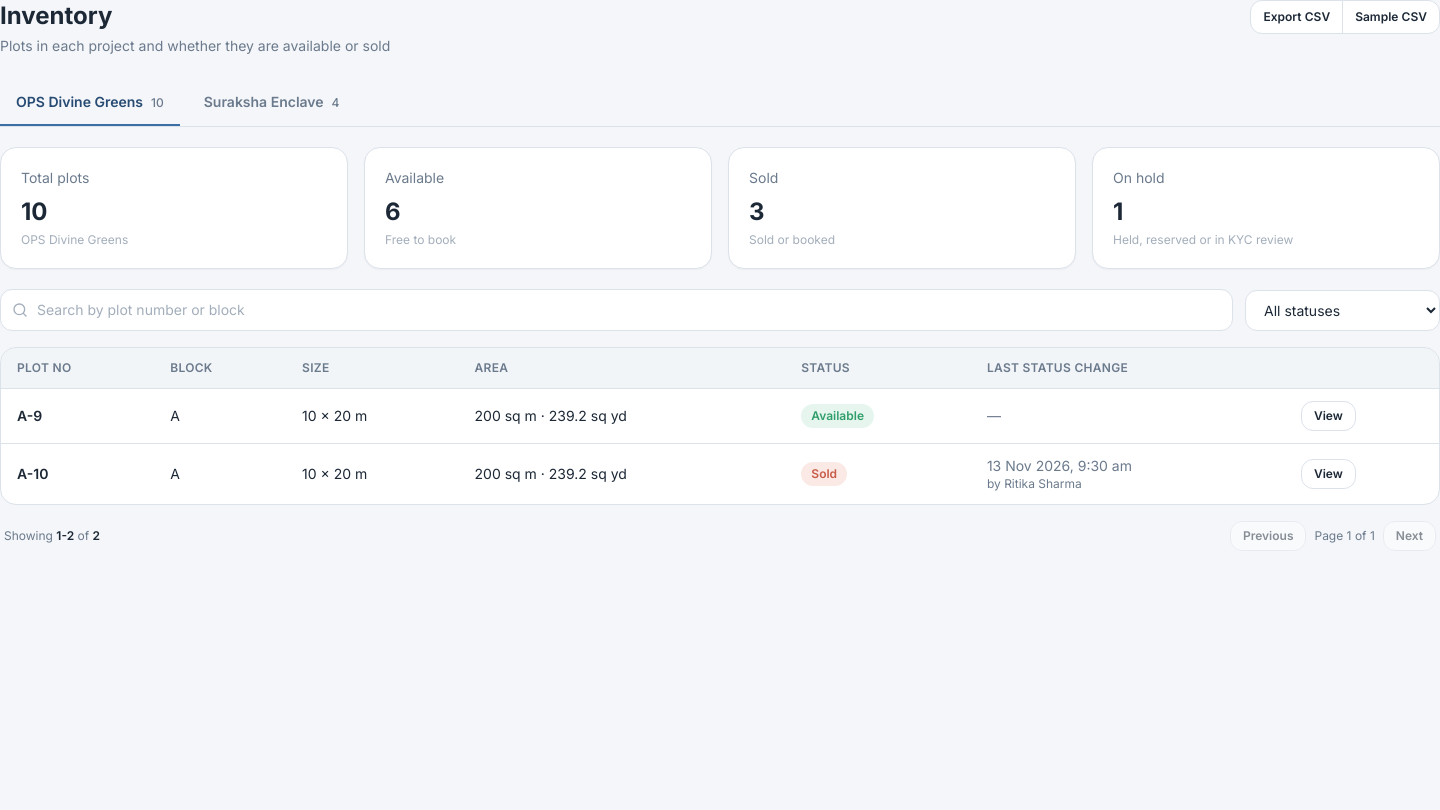
Test case: InventoryPage › shows the conflict and reloads the plot when someone else changed it
This screenshot has width=1440, height=810.
Click the button "View" in the row of "A-9".
click(1328, 416)  # box 1301,401 -> 1356,431
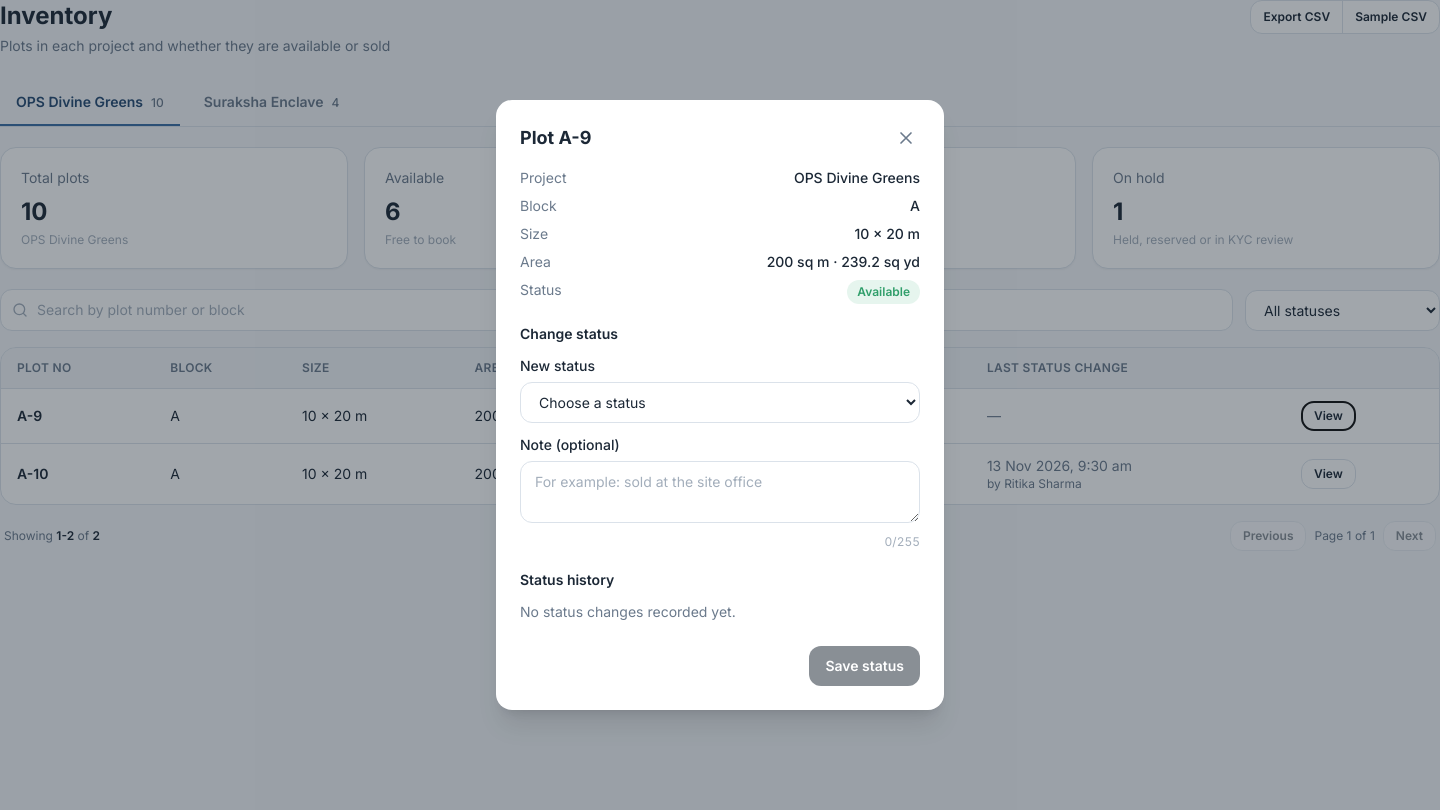
Select "Sold" in the dropdown labelled "New status" at (720, 402), box 520,382 -> 920,423
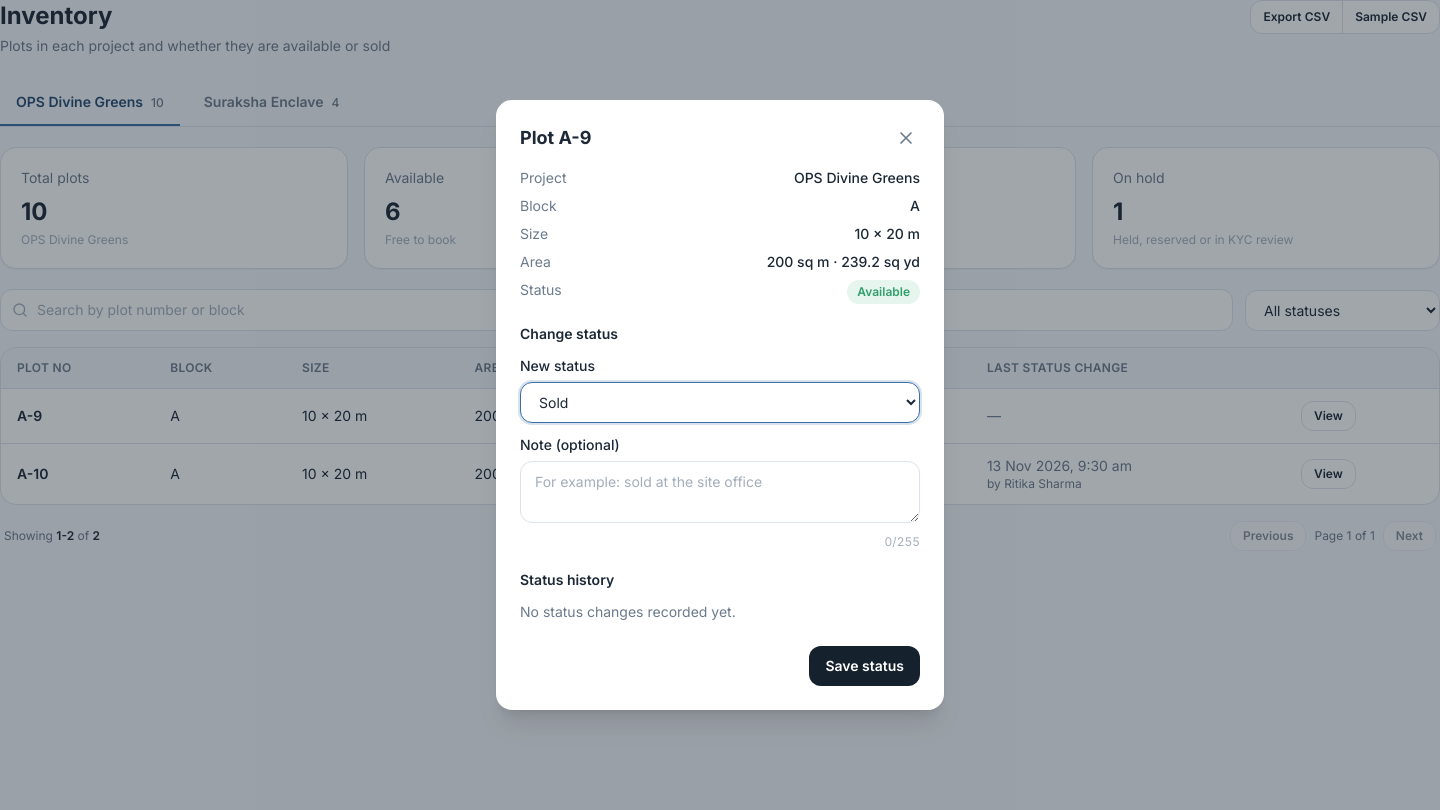
Click the button "Save status".
click(865, 666)  # box 809,646 -> 920,686
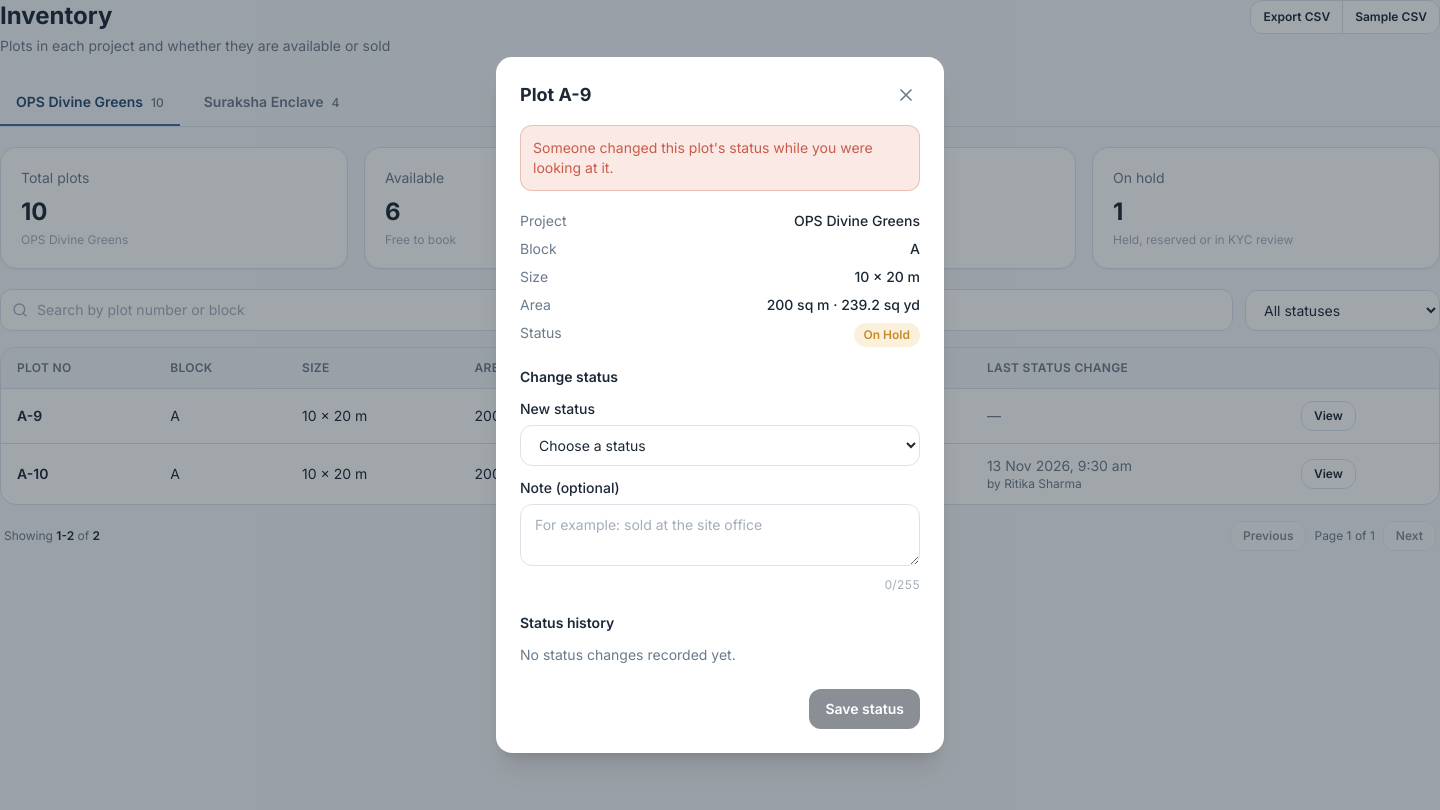
Check: the message shows "Someone changed this plot's status", box 533,139 -> 873,176
